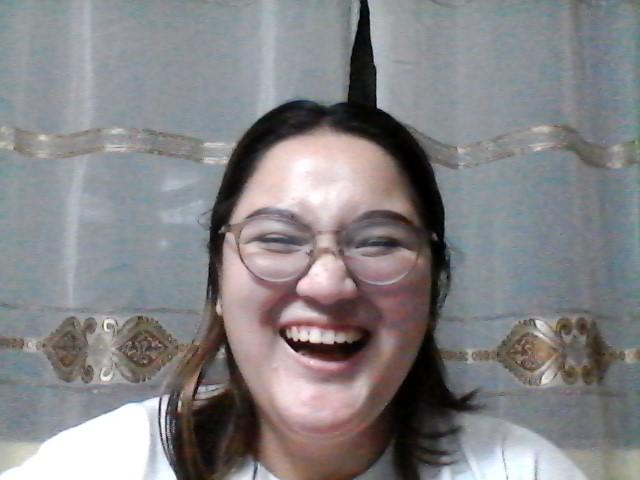senang: (215, 137, 441, 426)
